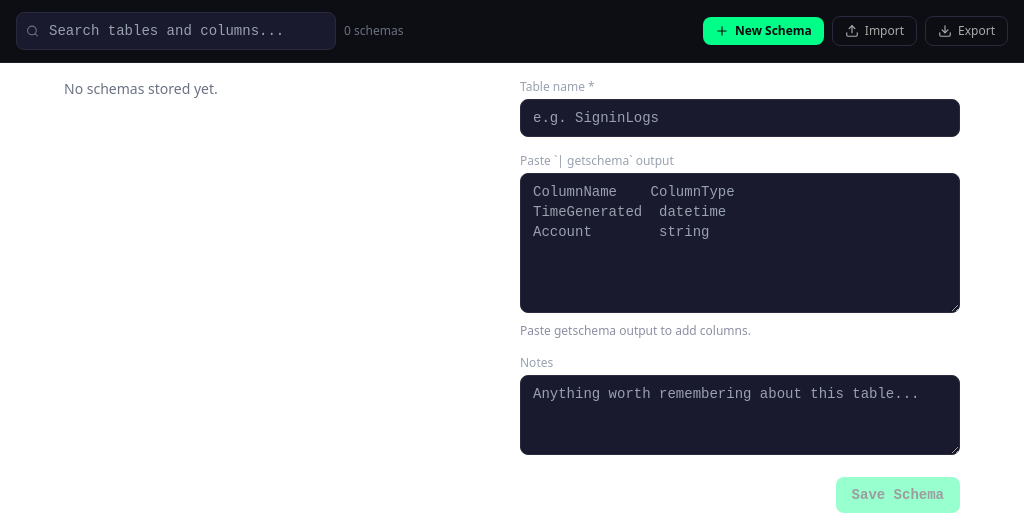
Test: the paste box › shows the parser's error verbatim for a paste that is not getschema output
This screenshot has width=1024, height=530.
Check: the text "No schemas stored yet." is shown, box [64,79,218,98]
In the text box labelled "Paste `| getschema` output": point(740, 243) [520,173,960,313], type "this has no valid column identifiers"
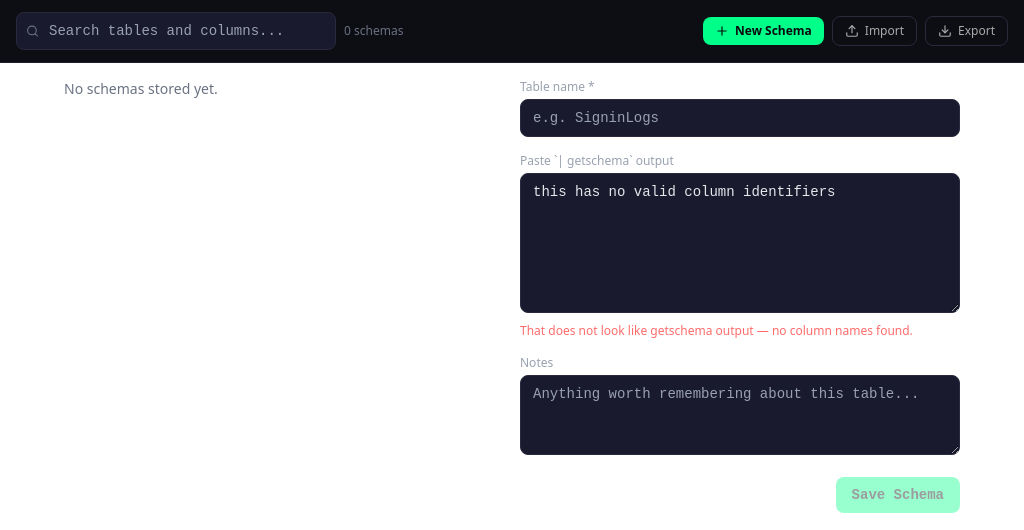
Check: the text "That does not look like getschema output — no column names found." is shown, box [520,323,960,339]
